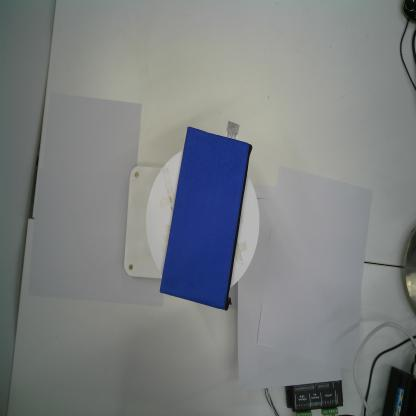Stationery: (159, 125, 252, 312)
